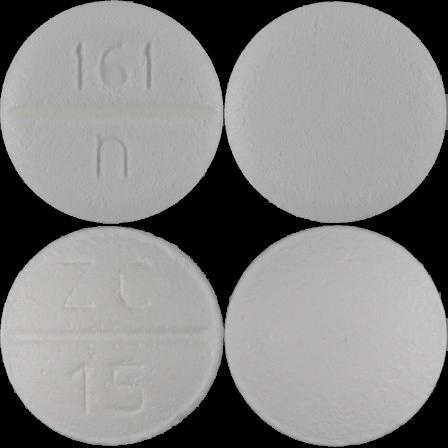68084-041: (0, 0, 224, 224)
